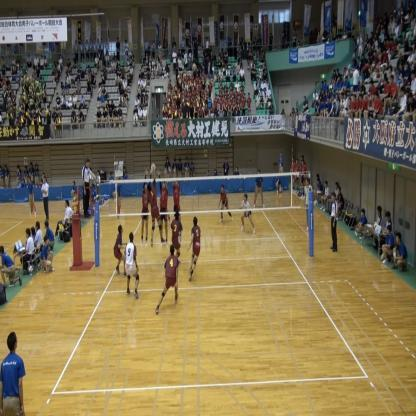spike: (144, 160, 167, 248)
